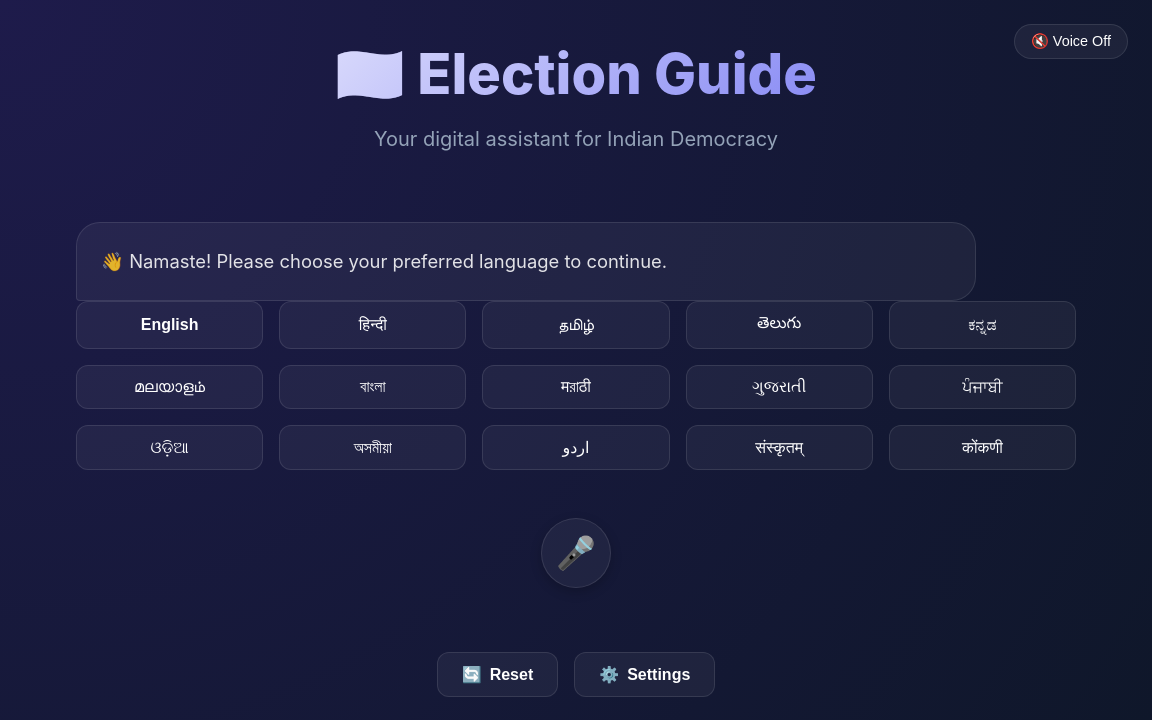
Test: toggles voice state
What coordinates should you click on to do the following:
click the button with aria-label "Toggle Voice"
I would click on:
 (1071, 42)
Its box is x1=1014 y1=24 x2=1128 y2=59.
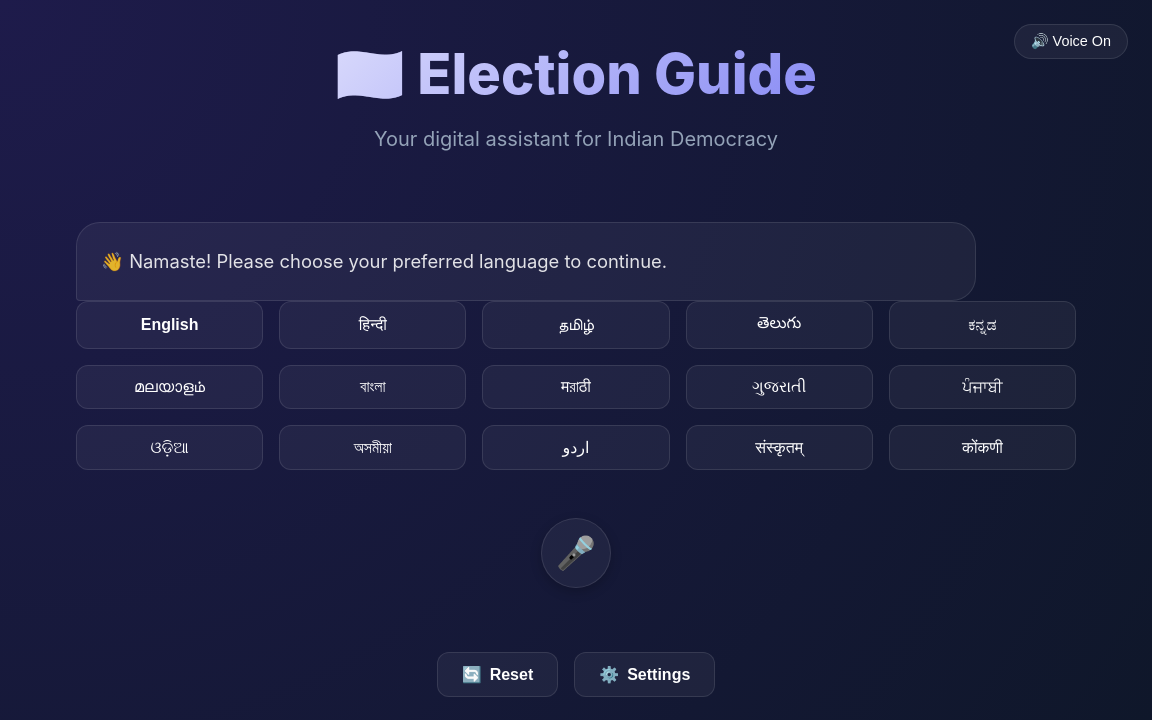
Now the button with aria-label "Toggle Voice" reads "🔊 Voice On", box x1=1014 y1=24 x2=1128 y2=59
